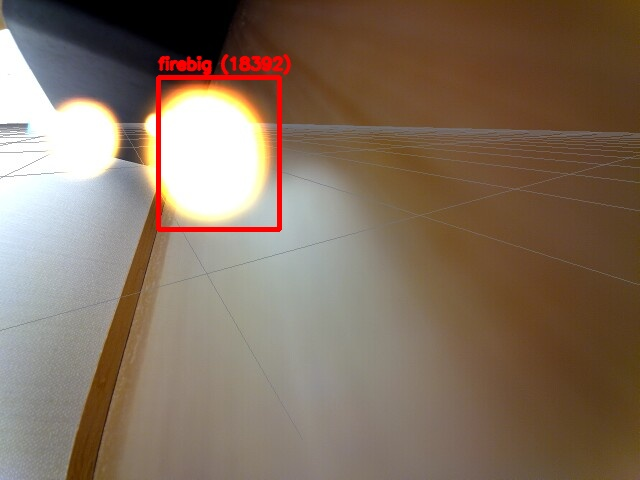firebig: (158, 77, 279, 229)
